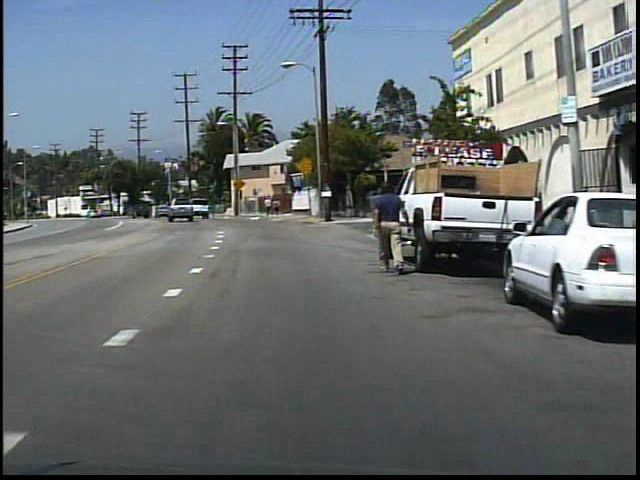person: (366, 177, 411, 277), (264, 194, 273, 218), (272, 197, 282, 216)
